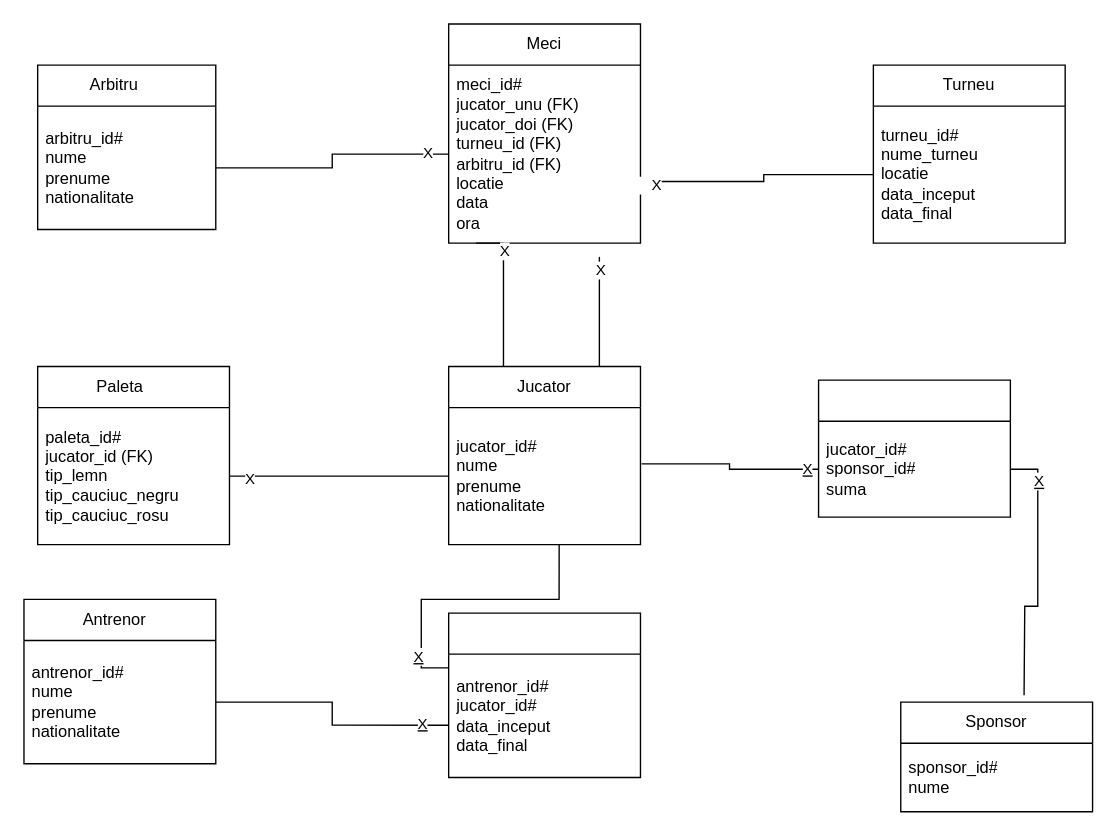
Image size: 1117x836. Some labels were removed from this diagram. Here are the shapes that lost their labels. From the top down, the box of each, then its label:
(817, 379, 1010, 517): Contract_sponsorizare
(447, 612, 640, 777): Contract_antrenor
